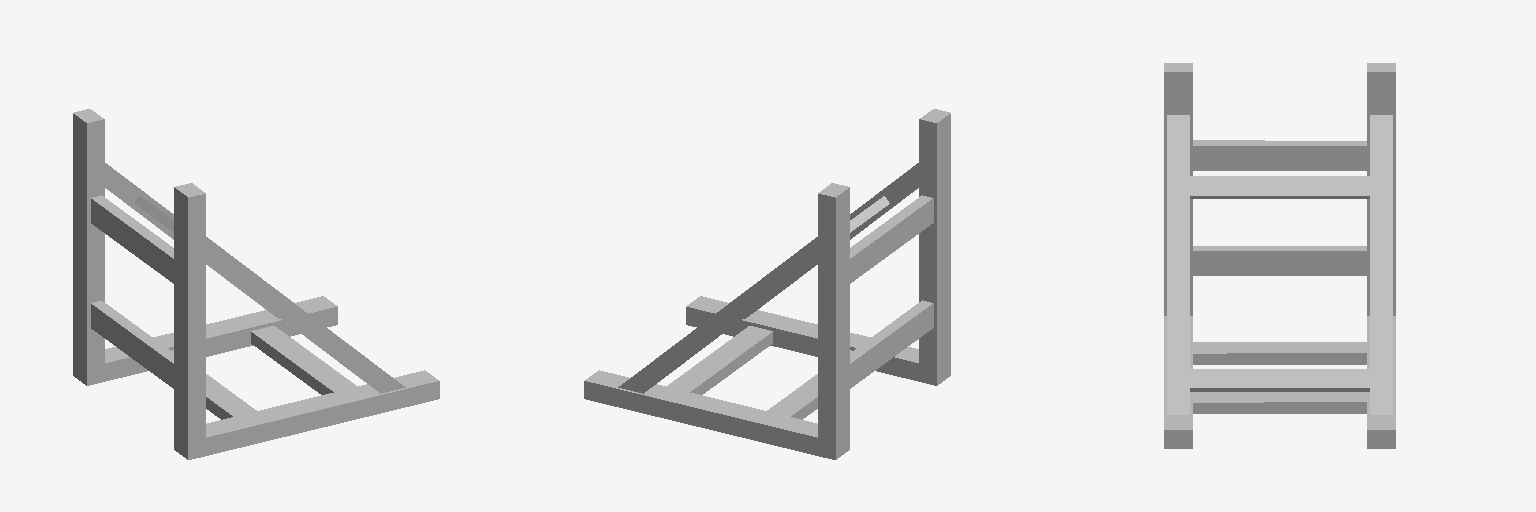
Rendered from woodsupportudx-.obj.
The picture shows the model from 3 angles: view 1: azimuth 30°, elevation 25°; view 2: azimuth 150°, elevation 25°; view 3: azimuth 270°, elevation 25°; orthographic projection.
Visible parts, largest first — view 1: bedx+; view 2: bedx+; view 3: bedx+.
Part boxes in pixels (left/top/right/bottom): bedx+: left=73, top=109, right=439, bottom=459; bedx+: left=584, top=109, right=950, bottom=459; bedx+: left=1164, top=63, right=1395, bottom=448.
Size of the model in its own units: 1 by 1 by 0.8.